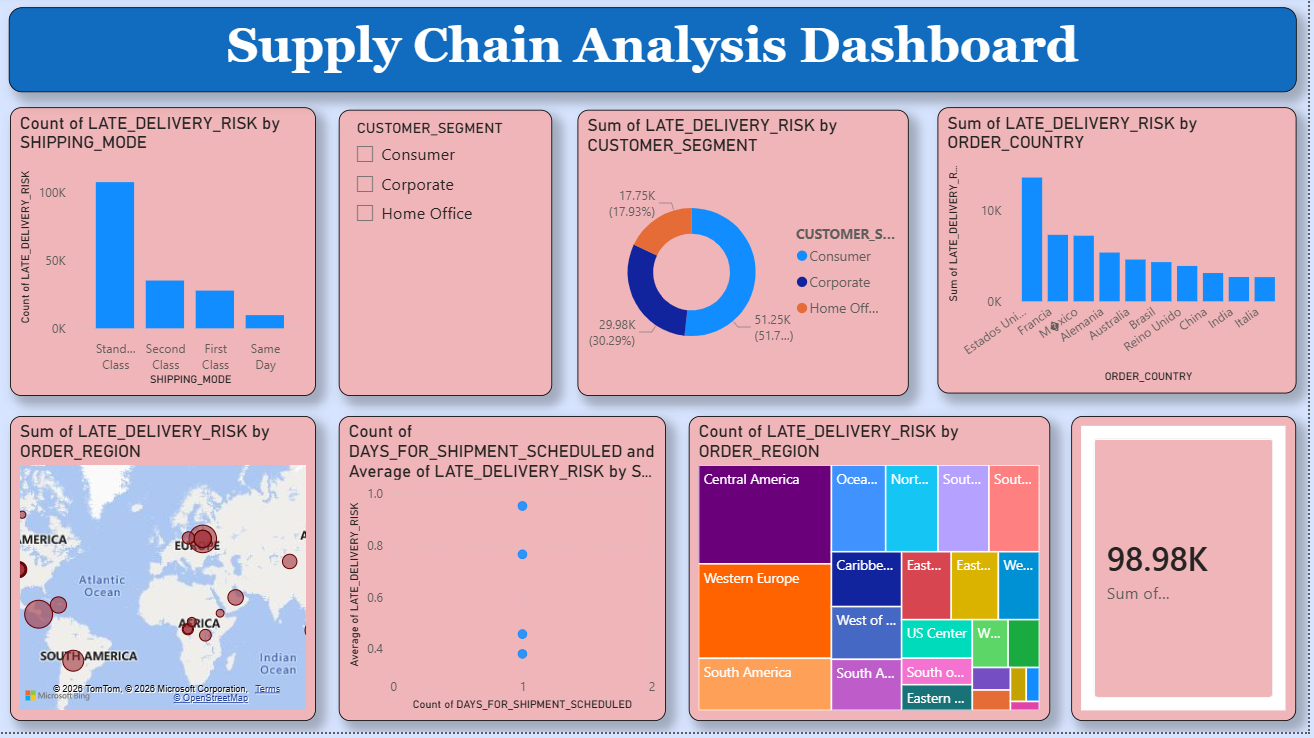

The page's visual inventory and layout, read from the dashboard file:
{"tool":"powerbi","page":{"name":"Page 1","canvas":[1280,720],"ordinal":0},"visuals":[{"type":"clusteredColumnChart","fields":{"Category":["DATACO_RAW_TABLE.SHIPPING_MODE"],"Y":["CountNonNull(DATACO_RAW_TABLE.LATE_DELIVERY_RISK)"]},"box":[9.8,108.8,299.6,282.5],"z":0},{"type":"map","fields":{"Category":["DATACO_RAW_TABLE.ORDER_REGION"],"Size":["Sum(DATACO_RAW_TABLE.LATE_DELIVERY_RISK)"]},"box":[9.8,410.9,299.6,298.4],"z":1},{"type":"slicer","fields":{"Values":["DATACO_RAW_TABLE.CUSTOMER_SEGMENT"]},"box":[331.4,111.3,209.1,280],"z":2},{"type":"textbox","box":[8.9,11.4,1260,83.6],"z":3},{"type":"donutChart","fields":{"Category":["DATACO_RAW_TABLE.CUSTOMER_SEGMENT"],"Y":["Sum(DATACO_RAW_TABLE.LATE_DELIVERY_RISK)"]},"box":[564.9,111.3,324.1,280],"z":4},{"type":"clusteredColumnChart","fields":{"Category":["DATACO_RAW_TABLE.ORDER_COUNTRY"],"Y":["Sum(DATACO_RAW_TABLE.LATE_DELIVERY_RISK)"]},"box":[917.1,108.8,351,280],"z":5},{"type":"scatterChart","fields":{"Y":["Avg(DATACO_RAW_TABLE.LATE_DELIVERY_RISK)"],"Category":["DATACO_RAW_TABLE.SHIPPING_MODE"],"X":["Count(DATACO_RAW_TABLE.DAYS_FOR_SHIPMENT_SCHEDULED)"]},"box":[331.4,410.9,320.4,298.4],"z":6},{"type":"treemap","fields":{"Group":["DATACO_RAW_TABLE.ORDER_REGION"],"Values":["CountNonNull(DATACO_RAW_TABLE.LATE_DELIVERY_RISK)"]},"box":[673.8,410.9,353.4,298.4],"z":7},{"type":"cardVisual","fields":{"Data":["Sum(DATACO_RAW_TABLE.LATE_DELIVERY_RISK)"]},"box":[1048,410.9,220.1,298.4],"z":8}]}

Visuals, with their boxes in screenshot pixels (x1, y1, x2, y2), scaled from the page's 1280x720 canvas onto the 1314x738 screenshot:
clusteredColumnChart - DATACO_RAW_TABLE.SHIPPING_MODE x CountNonNull(DATACO_RAW_TABLE.LATE_DELIVERY_RISK): [10, 112, 318, 401]
map - DATACO_RAW_TABLE.ORDER_REGION x Sum(DATACO_RAW_TABLE.LATE_DELIVERY_RISK): [10, 421, 318, 727]
slicer - DATACO_RAW_TABLE.CUSTOMER_SEGMENT: [340, 114, 555, 401]
textbox: [9, 12, 1303, 97]
donutChart - DATACO_RAW_TABLE.CUSTOMER_SEGMENT x Sum(DATACO_RAW_TABLE.LATE_DELIVERY_RISK): [580, 114, 913, 401]
clusteredColumnChart - DATACO_RAW_TABLE.ORDER_COUNTRY x Sum(DATACO_RAW_TABLE.LATE_DELIVERY_RISK): [941, 112, 1302, 399]
scatterChart - Avg(DATACO_RAW_TABLE.LATE_DELIVERY_RISK) x DATACO_RAW_TABLE.SHIPPING_MODE: [340, 421, 669, 727]
treemap - DATACO_RAW_TABLE.ORDER_REGION x CountNonNull(DATACO_RAW_TABLE.LATE_DELIVERY_RISK): [692, 421, 1054, 727]
cardVisual - Sum(DATACO_RAW_TABLE.LATE_DELIVERY_RISK): [1076, 421, 1302, 727]
